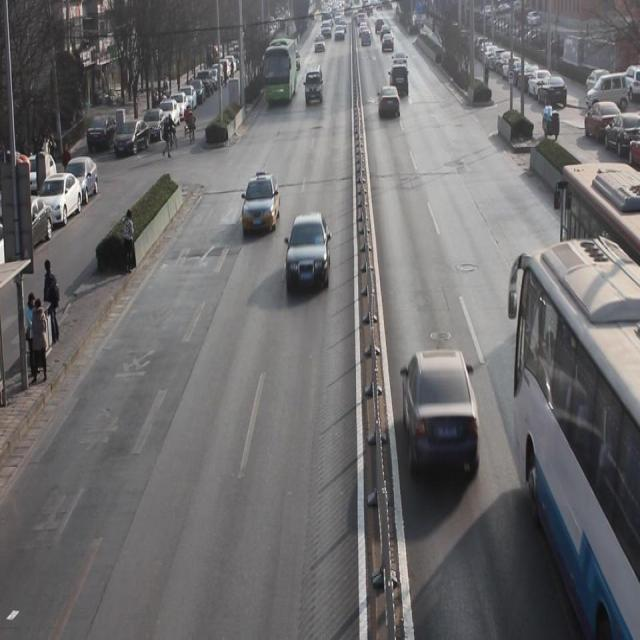car: (402, 351, 483, 483), (285, 214, 333, 289), (243, 172, 282, 232), (388, 63, 411, 98), (378, 86, 402, 119)
truck: (304, 66, 326, 106)
van: (516, 240, 640, 630), (559, 165, 640, 407), (262, 41, 295, 110)
